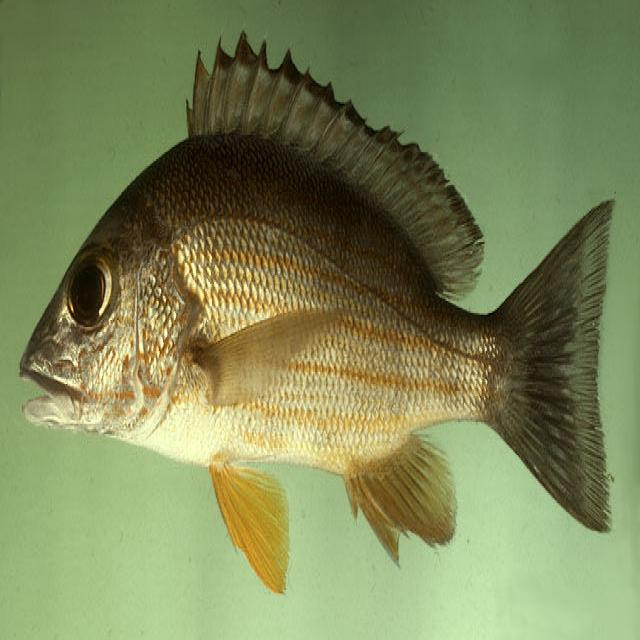ikan: (18, 29, 616, 595)
